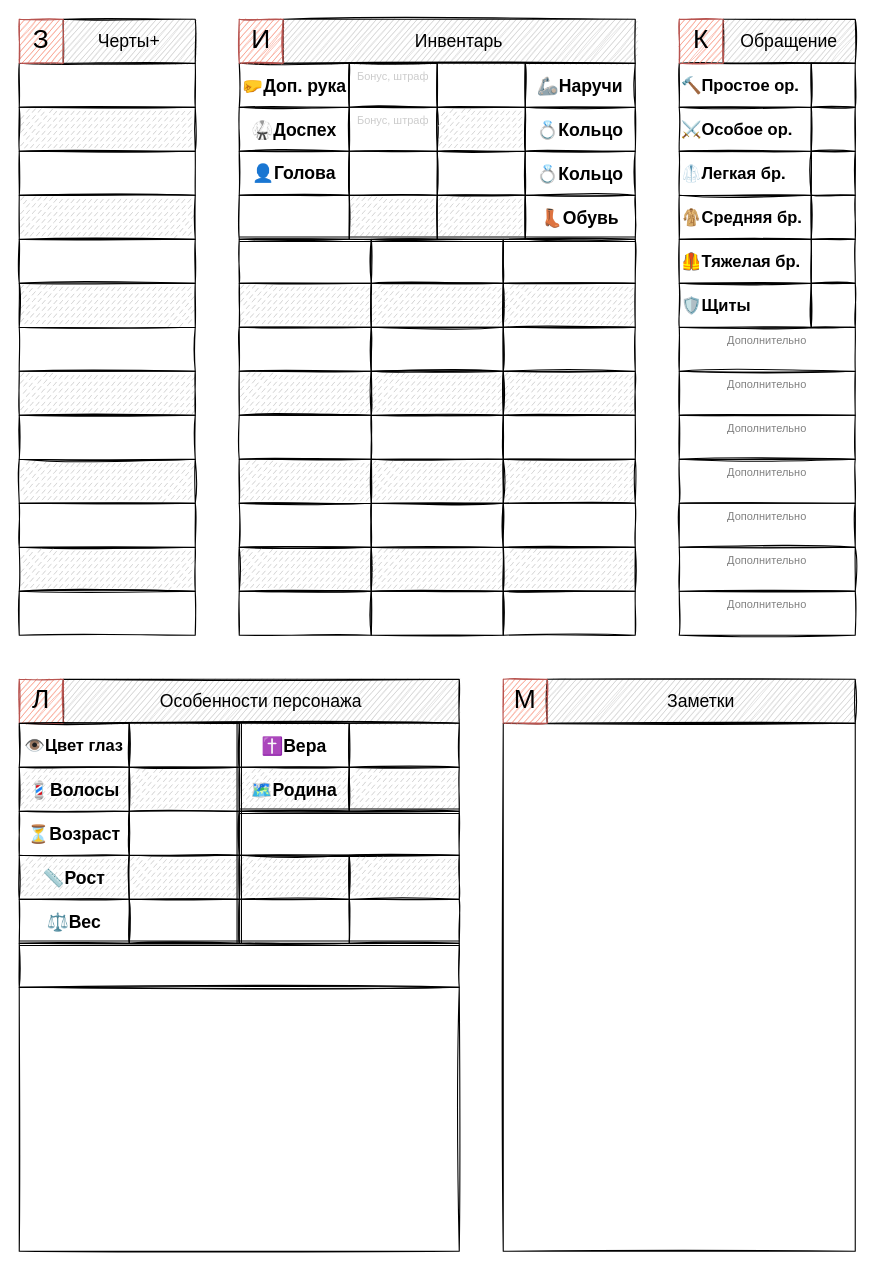
The diagram is 875 pixels wide and 1271 high, and some of its shapes have lost their labels. Here are the shapes that lost their labels. From the top down, the box of each, then its label:
(238, 194, 349, 239): 👔 Шея
(238, 810, 459, 855): 👅Языки
(18, 942, 459, 987): 🪶Биография
